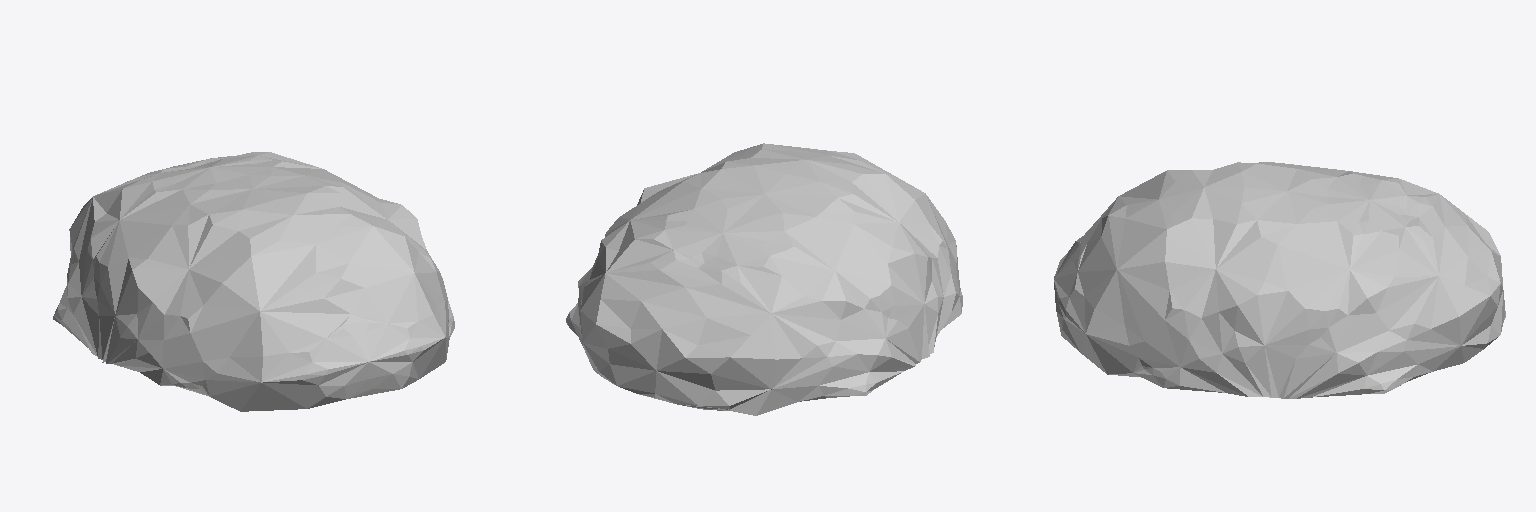
File: SpaceStone.obj
3 renders of one model, left to right at view 1: azimuth 30°, elevation 25°; view 2: azimuth 150°, elevation 25°; view 3: azimuth 270°, elevation 25°, orthographic.
Visible parts, largest first — view 1: Power_Stone_(1); view 2: Power_Stone_(1); view 3: Power_Stone_(1).
Boxes of the visible parts, x1,y1,x2,y2 form: Power_Stone_(1): [53, 152, 454, 411]; Power_Stone_(1): [566, 143, 962, 415]; Power_Stone_(1): [1054, 162, 1505, 398].
Bounding box in the file's own units: 0.8913 × 0.3725 × 1.11.